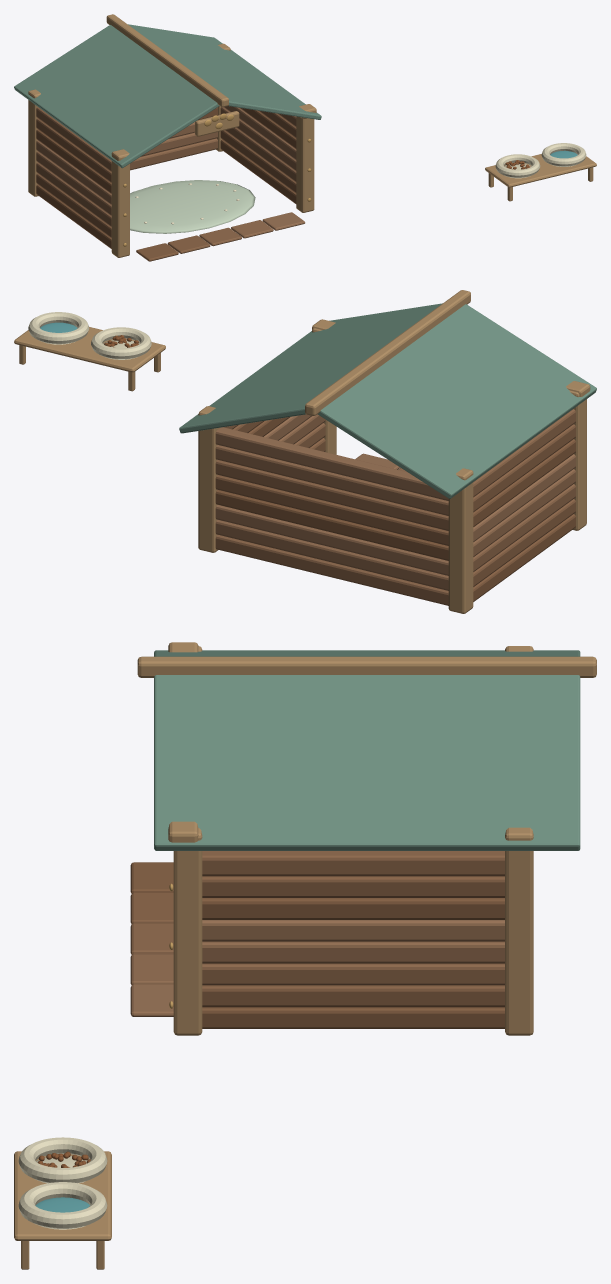
The model's file is cat-home.glb.
3 views of the same model, one above another, from view 1: azimuth 30°, elevation 25°; view 2: azimuth 150°, elevation 25°; view 3: azimuth 270°, elevation 25° (orthographic). The views are drawn at different scales.
Parts seen in each view (by area): view 1: cat_home_sage_roof, cat_home_end_grain, cat_home_linen, cat_home_cedar_2, cat_home_cedar_0, cat_home_cedar_1, cat_home_cedar_3, cat_home_cedar_4, cat_home_glazed_cream; view 2: cat_home_sage_roof, cat_home_end_grain, cat_home_cedar_2, cat_home_cedar_4, cat_home_cedar_3, cat_home_cedar_0, cat_home_cedar_1, cat_home_glazed_cream; view 3: cat_home_sage_roof, cat_home_end_grain, cat_home_cedar_2, cat_home_cedar_1, cat_home_cedar_0, cat_home_cedar_3, cat_home_cedar_4, cat_home_glazed_cream.
Boxes of the visible parts, box(x1,y1,x2,y2) form: cat_home_sage_roof: box(14, 24, 321, 168); cat_home_end_grain: box(28, 14, 596, 257); cat_home_linen: box(130, 180, 255, 233); cat_home_cedar_2: box(36, 107, 296, 246); cat_home_cedar_0: box(36, 107, 296, 261); cat_home_cedar_1: box(36, 111, 296, 253); cat_home_cedar_3: box(36, 107, 296, 238); cat_home_cedar_4: box(36, 106, 305, 230); cat_home_glazed_cream: box(495, 143, 586, 178); cat_home_sage_roof: box(179, 303, 596, 498); cat_home_end_grain: box(14, 290, 590, 613); cat_home_cedar_2: box(215, 409, 575, 605); cat_home_cedar_4: box(215, 414, 575, 575); cat_home_cedar_3: box(215, 414, 575, 590); cat_home_cedar_0: box(215, 417, 575, 601); cat_home_cedar_1: box(215, 421, 575, 586); cat_home_glazed_cream: box(28, 312, 151, 359); cat_home_sage_roof: box(154, 650, 580, 850); cat_home_end_grain: box(14, 642, 596, 1269); cat_home_cedar_2: box(130, 851, 504, 985); cat_home_cedar_1: box(130, 876, 504, 1007); cat_home_cedar_0: box(130, 862, 504, 1028); cat_home_cedar_3: box(130, 941, 504, 985); cat_home_cedar_4: box(130, 920, 504, 1016); cat_home_glazed_cream: box(18, 1137, 107, 1229).
Size of the model in its own units: 6.7 by 2.1 by 3.87.
